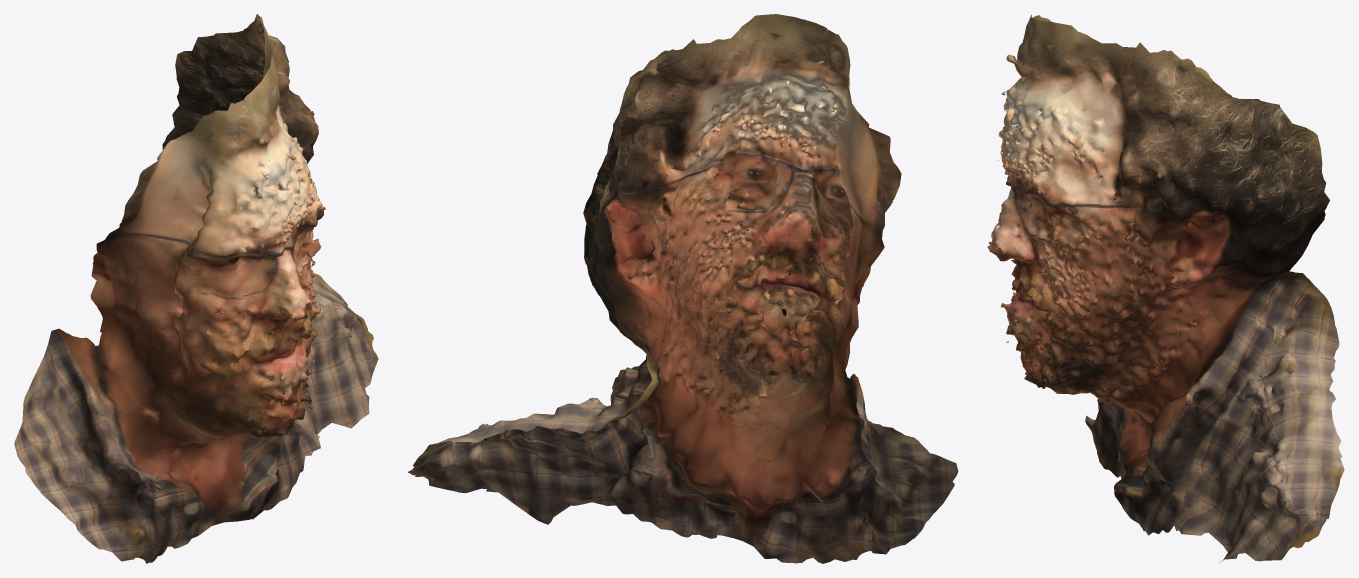
The model's file is Carlos_A.FBX.
3 views of the same model, side by side, from view 1: azimuth 30°, elevation 25°; view 2: azimuth 150°, elevation 25°; view 3: azimuth 270°, elevation 25° (orthographic). The views are drawn at different scales.
Visible parts, largest first — view 1: default; view 2: default; view 3: default.
Boxes of the visible parts, x1,y1,x2,y2 form: default: (14, 14, 378, 563); default: (408, 14, 958, 563); default: (987, 14, 1344, 563).
Bounding box in the file's own units: 0.1466 × 0.1025 × 0.1571.
1 material, 1 textured.
